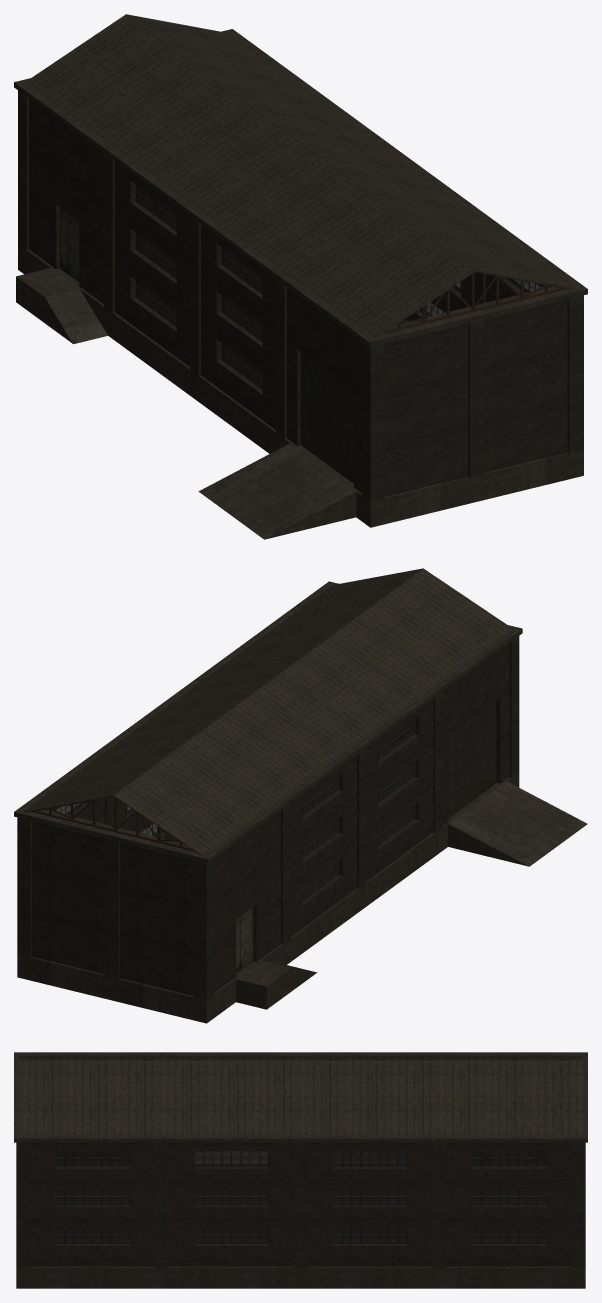
Rendered from warehouse_mx_4.obj.
3 renders of one model, top to bottom at view 1: azimuth 30°, elevation 25°; view 2: azimuth 150°, elevation 25°; view 3: azimuth 270°, elevation 25°, orthographic. The views are drawn at different scales.
Visible parts, largest first — view 1: warehouse_mx_4, garage_door_hr_4_a_piece_1, garage_door_hr_4_a_piece_2, door_hm_1_a_piece_2; view 2: warehouse_mx_4, garage_door_hr_4_a_piece_2, garage_door_hr_4_a_piece_1, door_hm_1_a_piece_2; view 3: warehouse_mx_4, garage_door_hr_4_a_piece_2, garage_door_hr_4_a_piece_1.
Part boxes in pixels (x1=…): warehouse_mx_4: x1=14, y1=14, x2=587, y2=539; garage_door_hr_4_a_piece_1: x1=301, y1=352, x2=328, y2=465; garage_door_hr_4_a_piece_2: x1=329, y1=373, x2=353, y2=483; door_hm_1_a_piece_2: x1=68, y1=214, x2=79, y2=282; warehouse_mx_4: x1=14, y1=568, x2=587, y2=1023; garage_door_hr_4_a_piece_2: x1=471, y1=701, x2=496, y2=800; garage_door_hr_4_a_piece_1: x1=450, y1=719, x2=471, y2=816; door_hm_1_a_piece_2: x1=240, y1=907, x2=253, y2=969; warehouse_mx_4: x1=14, y1=1052, x2=587, y2=1288; garage_door_hr_4_a_piece_2: x1=56, y1=1152, x2=91, y2=1164; garage_door_hr_4_a_piece_1: x1=94, y1=1152, x2=128, y2=1164.
Size of the model in its own units: 12.4 by 8.87 by 24.8.
